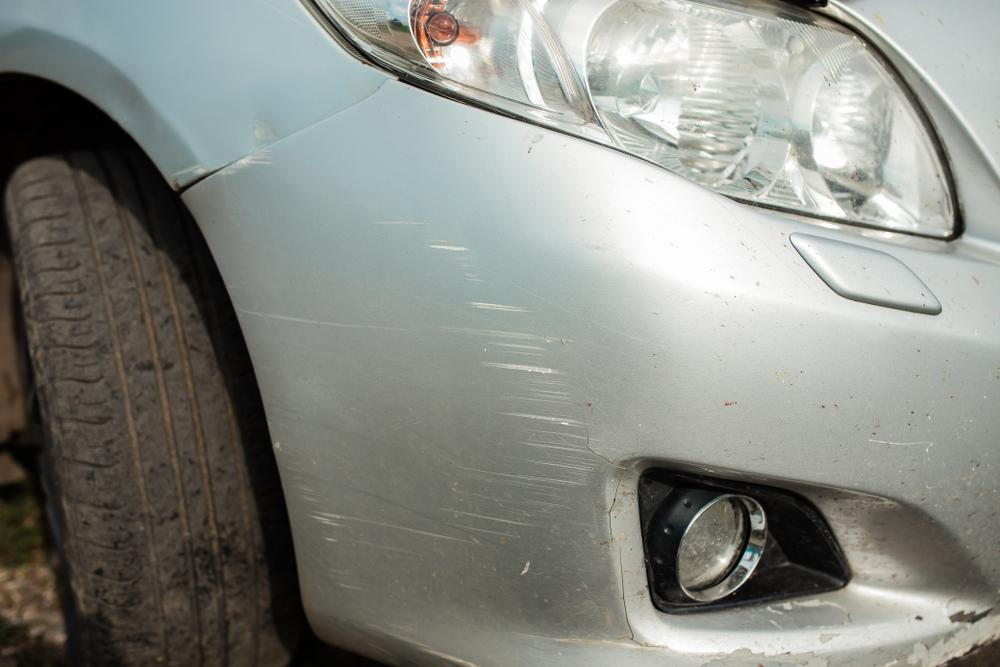scratch: (306, 217, 614, 590), (872, 608, 1000, 667)
